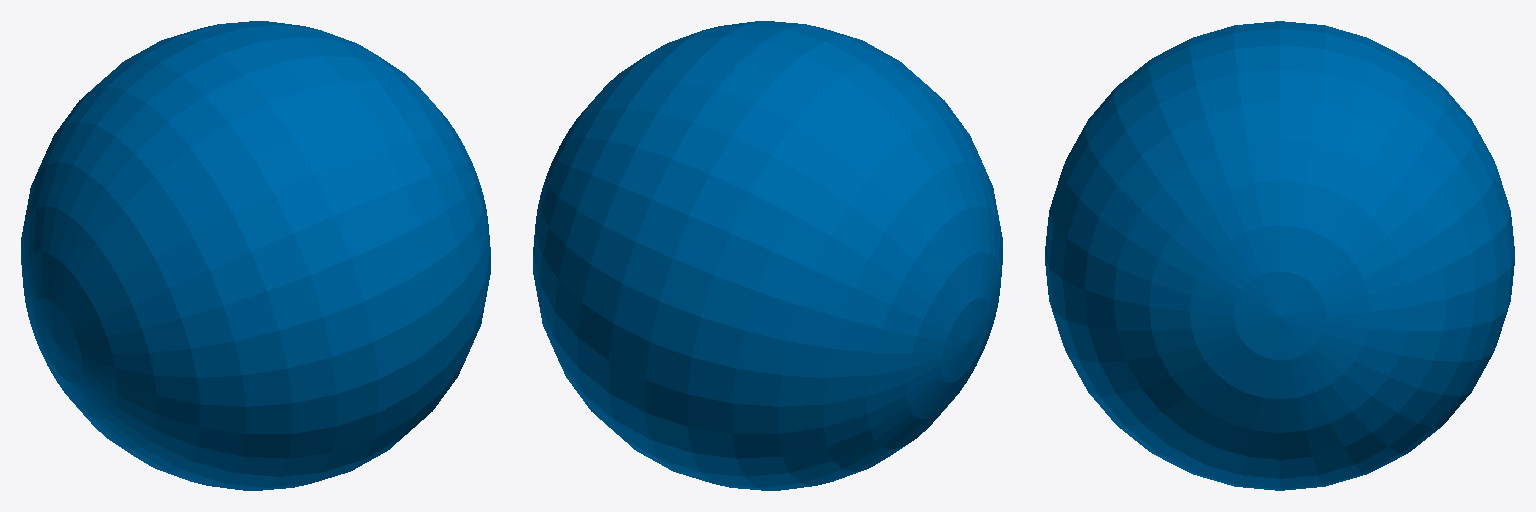
The robot description file, URDF, robot "hyq":
<?xml version="1.0" encoding="utf-8"?>
<robot name="hyq">
  <link name="base_link">
    <inertial>
      <origin xyz="0.0560691331299813 0.021493682967627666 0.0036081141592049586" rpy="0.0 0.0 0.0"/>
      <mass value="60.978"/>
      <inertia ixx="1.5727651692862368" ixy="0.02846518720991833" ixz="-0.20354038112779044" iyy="8.502743030521936" iyz="-0.004425323842294127" izz="9.196486342929056"/>
    </inertial>
  </link>

  <link name="rh_hipassembly">
    <inertial>
      <origin xyz="0.04263 0.0 0.16931" rpy="0.0 0.0 0.0"/>
      <mass value="2.93"/>
      <inertia ixx="0.050710000000000005" ixy="-4.0e-5" ixz="-0.0015900000000000011" iyy="0.054860000000000006" iyz="-5.0e-5" izz="0.00571"/>
    </inertial>
  </link>

  <link name="rh_upperleg">
    <inertial>
      <origin xyz="0.15074 -0.026249999999999996 0.0" rpy="0.0 0.0 0.0"/>
      <mass value="2.638"/>
      <inertia ixx="0.0036799999999999997" ixy="-0.00302" ixz="0.0001" iyy="0.02719" iyz="2.0e-5" izz="0.028109999999999996"/>
    </inertial>
  </link>

  <link name="rh_lowerleg">
    <inertial>
      <origin xyz="0.1254 4.0e-5 -0.0001" rpy="0.0 0.0 0.0"/>
      <mass value="0.881"/>
      <inertia ixx="0.00047" ixy="6.0e-5" ixz="-1.0e-5" iyy="0.01256" iyz="0.0" izz="0.012329999999999999"/>
    </inertial>
  </link>

   <!-- Foot link -->
   <link name="foot">
   	<collision>
   		<origin xyz="0 0 0" rpy="0 0 0"/>
   		<geometry>
   			<sphere radius="0.02175"/>
   		</geometry>
   	</collision>
   	<visual>
   		<geometry>
   			<sphere radius="0.02175" />
   		</geometry>
   		<material name="black" />
   	</visual>
   </link>

  <joint name="rh_haa_joint" type="revolute">
    <parent link="base_link"/>
    <child link="rh_hipassembly"/>
    <origin xyz="-0.3735 -0.207 0.0" rpy="0 1.57079632679 0"/>
    <axis xyz="0.0 0.0 1.0"/>
    <limit lower="-1.2217304764" upper="0.436332312999" effort="150.0" velocity="12.0"/>
  </joint>

  <joint name="rh_hfe_joint" type="revolute">
    <parent link="rh_hipassembly"/>
    <child link="rh_upperleg"/>
    <origin xyz="0.08 0.0 0.0" rpy="-1.57079632679 0.0 0.0"/>
    <axis xyz="0.0 0.0 1.0"/>
    <limit lower="-1.2217304764" upper="0.872664625997" effort="150.0" velocity="12.0"/>
  </joint>

  <joint name="rh_kfe_joint" type="revolute">
    <parent link="rh_upperleg"/>
    <child link="rh_lowerleg"/>
    <origin xyz="0.35 0.0 0.0" rpy="0.0 0.0 0.0"/>
    <axis xyz="0.0 0.0 1.0"/>
    <limit lower="0.349065850399" upper="2.44346095279" effort="150.0" velocity="12.0"/>
  </joint>

   <!-- Foot joint -->
   <joint name="foot_joint" type="revolute">
   	<origin xyz="0.341 0 0" rpy="1.57079632679 0 -1.57079632679"/>
   	<parent link="rh_lowerleg"/>
   	<child  link="foot"/>
   </joint>

</robot>

--- Facts derived from the render (not from the file) ---
Views: 3 orthographic renders of the robot side by side, from view 1: azimuth 30°, elevation 25°; view 2: azimuth 150°, elevation 25°; view 3: azimuth 270°, elevation 25°.
Robot: hyq — 5 links, 4 joints (4 revolute); root link base_link; default pose: all joints at 0 but 1 set to mid-range because 0 is outside their limits (rh_kfe_joint = 1.4).
Visible links, largest first — view 1: foot; view 2: foot; view 3: foot.
Boxes of the visible links, box(x1,y1,x2,y2) form: foot: box(21, 21, 490, 490); foot: box(533, 21, 1002, 490); foot: box(1045, 21, 1514, 490).
Size in the robot's own frame: 0.0435 by 0.0435 by 0.0435 metres.
Geometry: primitives only (box / cylinder / sphere), no mesh files.